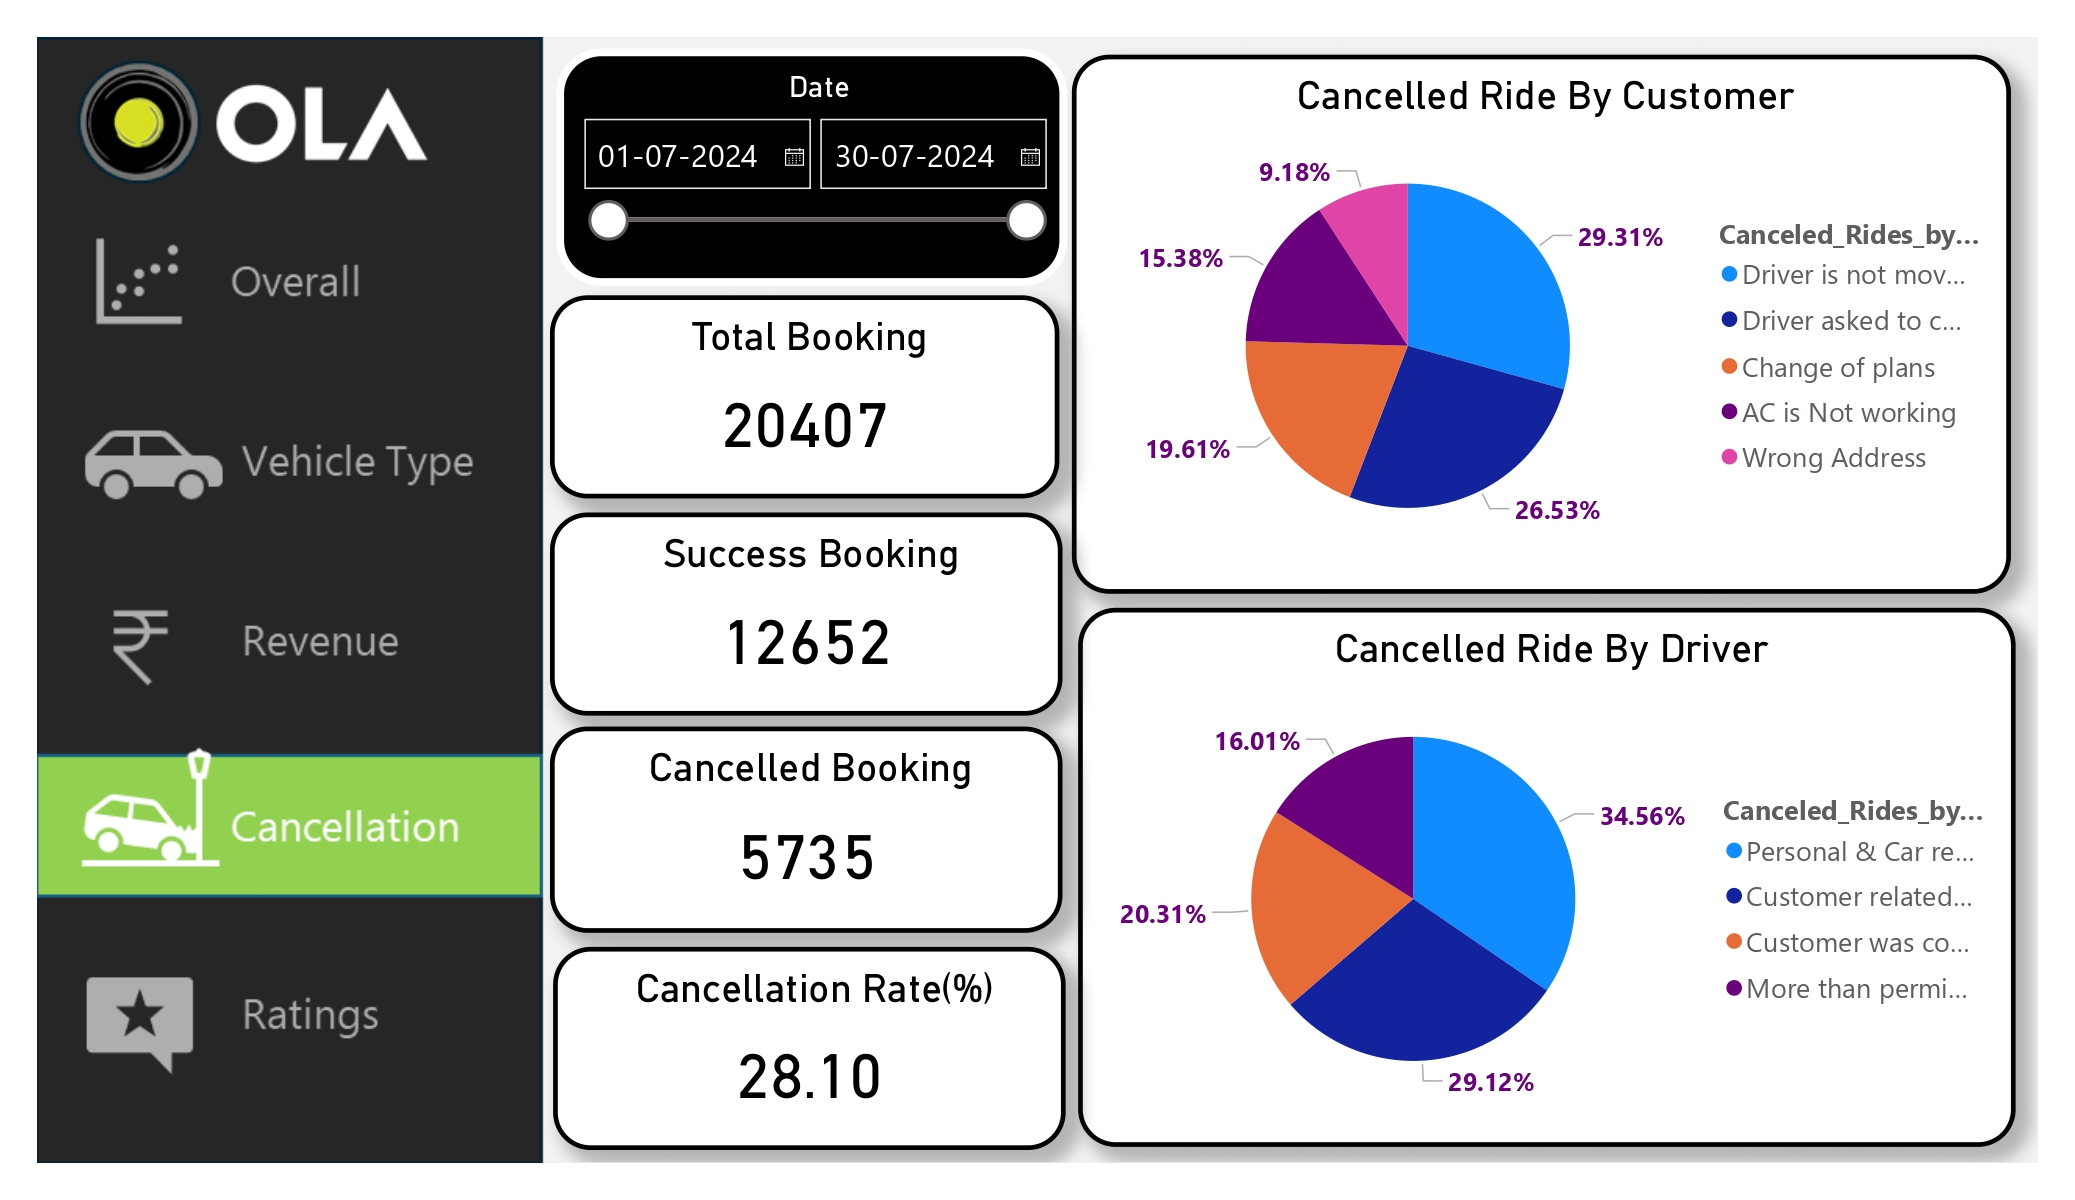

This screenshot's page, from the dashboard's own definition file:
{"tool":"powerbi","page":{"name":"Cancellation","canvas":[1280,720],"ordinal":3},"visuals":[{"type":"actionButton","box":[0,226.2,323.8,97.6],"z":0},{"type":"actionButton","box":[0,111.2,324.5,98.3],"z":1000},{"type":"actionButton","box":[1.9,343,324.5,98.3],"z":2000},{"type":"actionButton","box":[1.9,576.6,324.5,98.3],"z":3000},{"type":"pieChart","title":"Cancelled Ride By Customer","fields":{"Category":["Bookings.Canceled_Rides_by_Customer"],"Y":["CountNonNull(Bookings.Canceled_Rides_by_Customer)"]},"box":[661.9,11.1,600.7,344.9],"z":4000},{"type":"pieChart","title":"Cancelled Ride By Driver","fields":{"Category":["Bookings.Canceled_Rides_by_Driver"],"Y":["CountNonNull(Bookings.Canceled_Rides_by_Driver)"]},"box":[665.6,365.3,600.7,344.9],"z":5000},{"type":"slicer","title":"Date","fields":{"Values":["Bookings.Date"]},"box":[331.9,7.4,327,152],"z":6000},{"type":"card","title":"Total Booking","fields":{"Values":["CountNonNull(Bookings.Booking_ID)"]},"box":[328.2,165,326.3,129.8],"z":7000},{"type":"card","title":"Success Booking","fields":{"Values":["CountNonNull(Bookings.Booking_ID)"]},"box":[328.2,304.1,328.2,129.8],"z":8000},{"type":"card","title":"Cancelled Booking","fields":{"Values":["CountNonNull(Bookings.Booking_ID)"]},"box":[328.2,441.3,328.2,131.6],"z":9000},{"type":"card","title":"Cancellation Rate(%)","fields":{"Values":["Bookings.canceledpercentage"]},"box":[330,582.2,328.2,129.8],"z":10000}]}

Visuals, with their boxes on the page's 1280x720 design canvas (x1, y1, x2, y2). These are canvas units, not pixel positions in the 2075x1200 screenshot, which may show the page scaled, cropped or inside an application window:
actionButton: 0, 226, 324, 324
actionButton: 0, 111, 324, 210
actionButton: 2, 343, 326, 441
actionButton: 2, 577, 326, 675
"Cancelled Ride By Customer" pieChart: 662, 11, 1263, 356
"Cancelled Ride By Driver" pieChart: 666, 365, 1266, 710
"Date" slicer: 332, 7, 659, 159
"Total Booking" card: 328, 165, 654, 295
"Success Booking" card: 328, 304, 656, 434
"Cancelled Booking" card: 328, 441, 656, 573
"Cancellation Rate(%)" card: 330, 582, 658, 712
